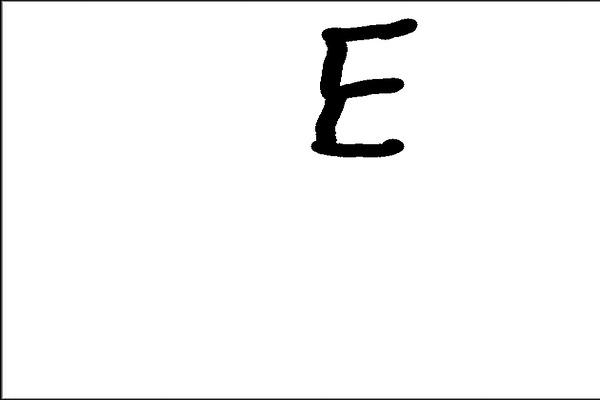E: (305, 14, 422, 161)
